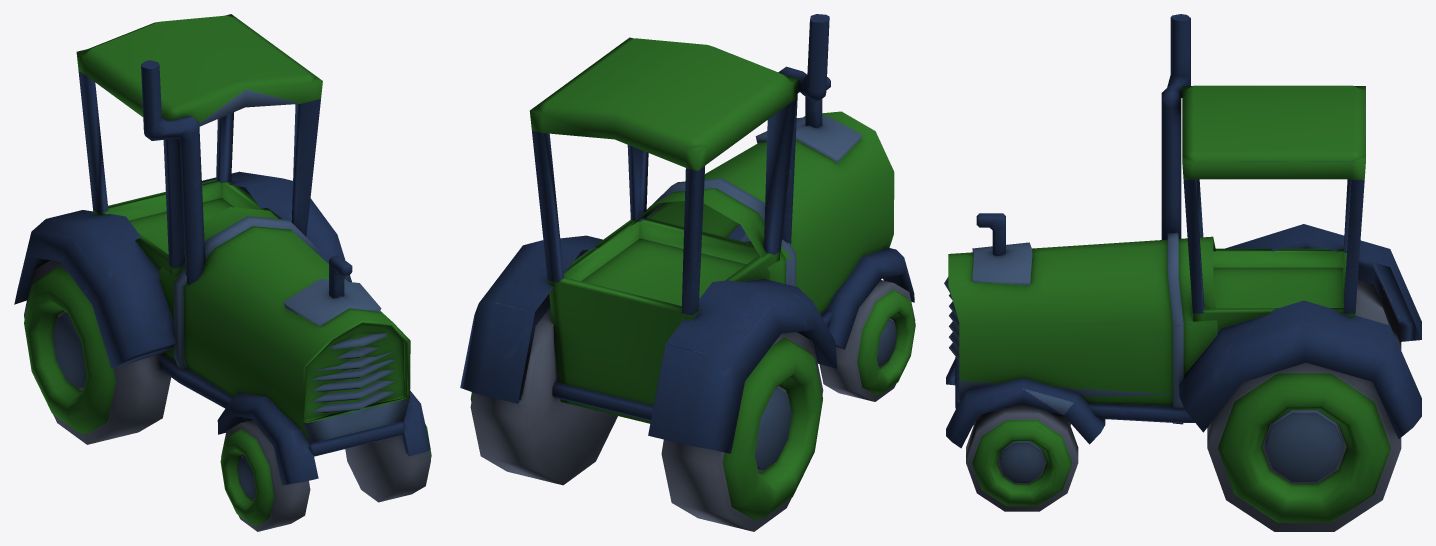
The model's file is Traktor_Rotated.obj.
3 views of the same model, side by side, from view 1: azimuth 30°, elevation 25°; view 2: azimuth 150°, elevation 25°; view 3: azimuth 270°, elevation 25° (orthographic). The views are drawn at different scales.
Visible parts, largest first — view 1: pCylinder36; view 2: pCylinder36; view 3: pCylinder36.
Boxes of the visible parts, box(x1,y1,x2,y2) form: pCylinder36: box(14, 14, 431, 531); pCylinder36: box(460, 14, 915, 531); pCylinder36: box(944, 14, 1421, 531).
Bounding box in the file's own units: 2.48 × 3.82 × 4.02.
